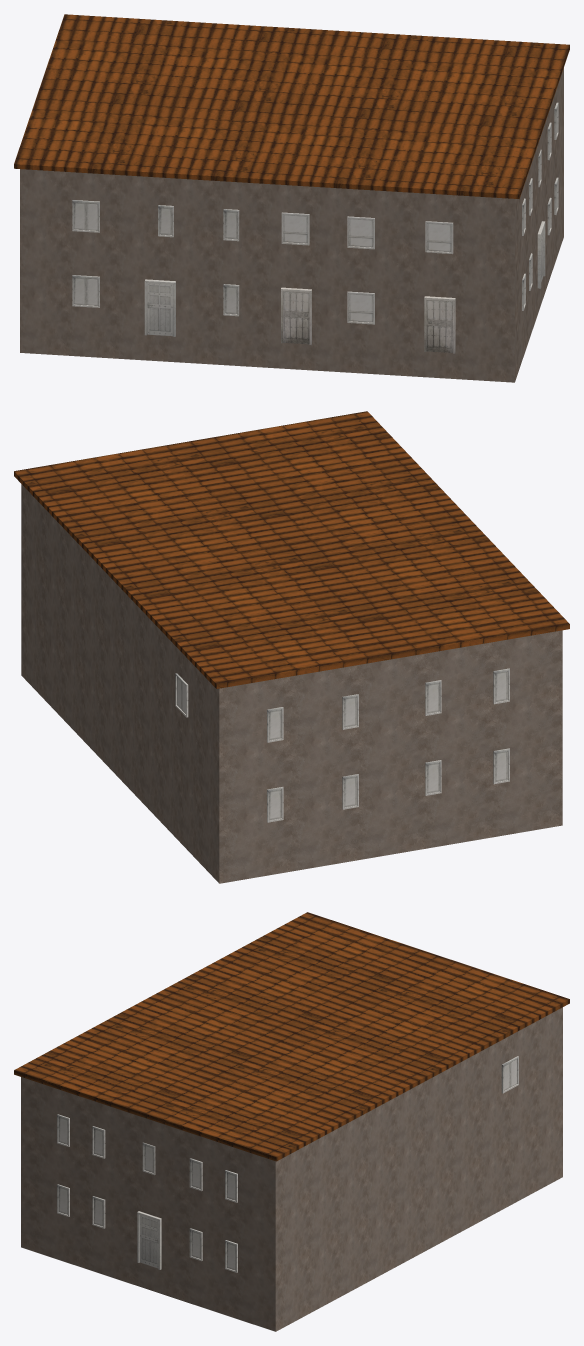
Rendered from Casa_4.fbx.
The picture shows the model from 3 angles, top to bottom: view 1: azimuth 30°, elevation 25°; view 2: azimuth 150°, elevation 25°; view 3: azimuth 270°, elevation 25°; orthographic projection. The views are drawn at different scales.
Parts seen in each view (by area): view 1: Casa_4; view 2: Casa_4; view 3: Casa_4.
Part boxes in pixels (x1,y1,x2,y2): Casa_4: (14,14,569,382); Casa_4: (14,411,569,883); Casa_4: (14,912,569,1331).
Size of the model in its own units: 18.8 by 6.35 by 18.02.
